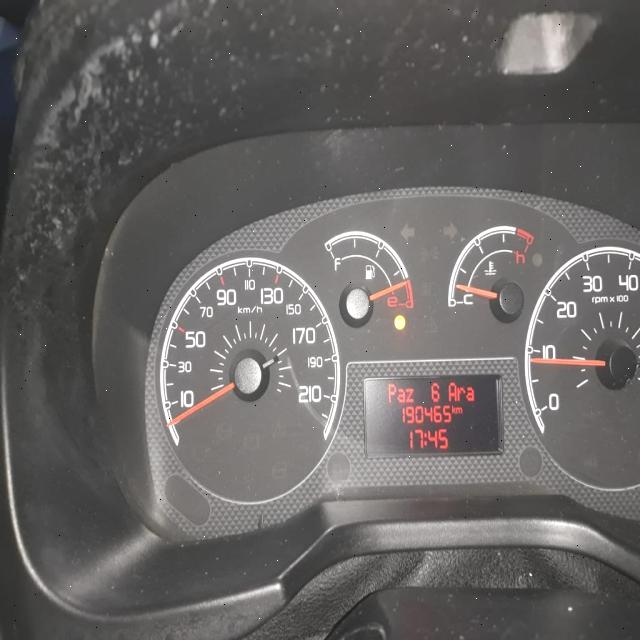odometer: (362, 373, 503, 459)
